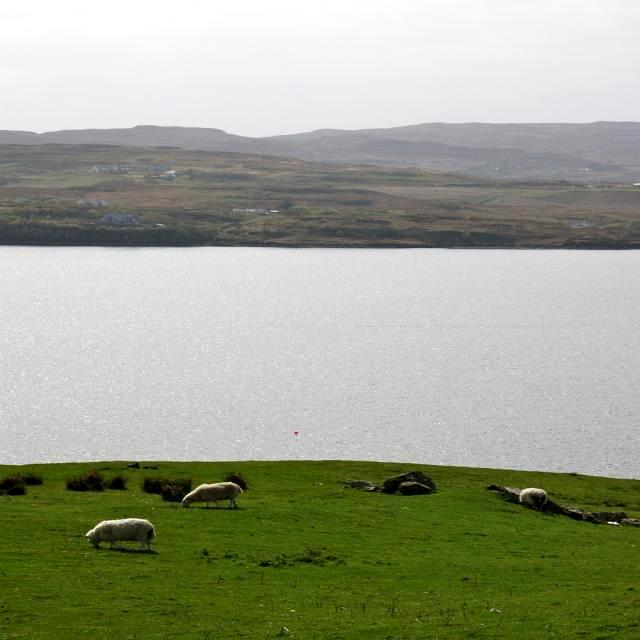sheep: (85, 518, 154, 550), (184, 483, 243, 507)
